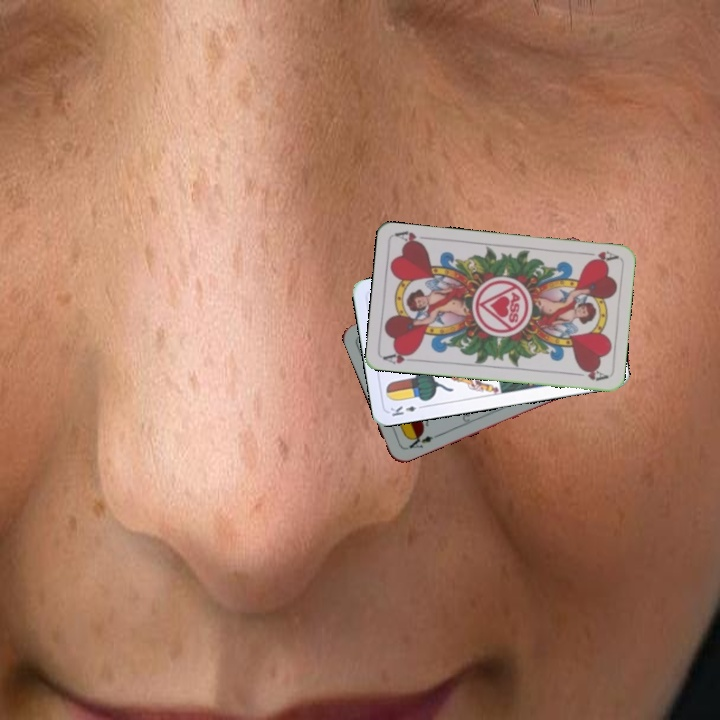EA: (402, 429, 435, 452)
EK: (386, 401, 427, 419)
HA: (579, 246, 620, 266), (380, 347, 418, 367)
